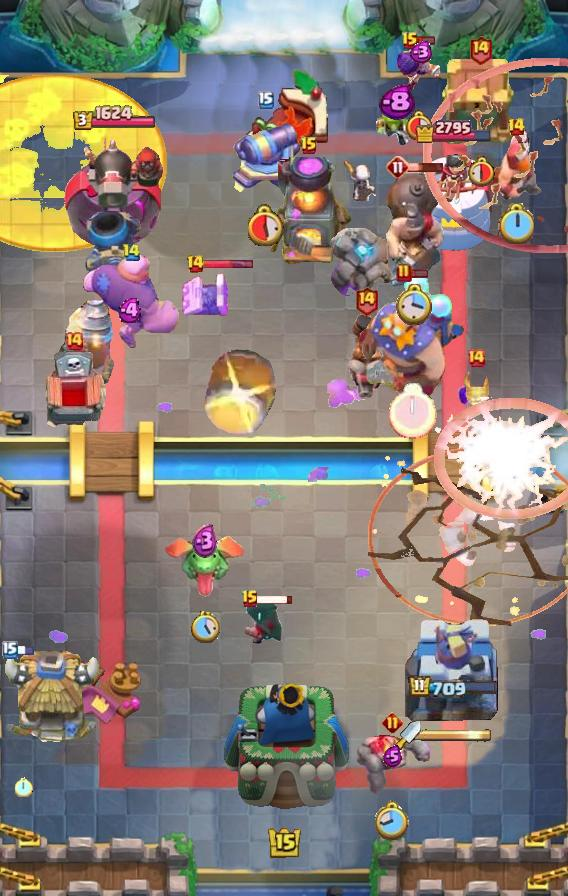balloon: (80, 252, 182, 352)
bar: (405, 611, 501, 731)
barbarian-evolution: (432, 397, 568, 519)
bomb: (441, 58, 519, 146)
dirt: (203, 347, 281, 439)
electro-spirit: (377, 83, 414, 120), (192, 525, 218, 560), (118, 297, 144, 322), (407, 41, 433, 63), (383, 744, 402, 768)
electro-wizard: (163, 535, 247, 597)
elite-barbarian: (344, 313, 388, 399)
elixir: (389, 383, 437, 439), (395, 285, 432, 328), (248, 204, 285, 246), (498, 203, 534, 245), (375, 800, 410, 842), (465, 155, 495, 187), (192, 611, 220, 643), (407, 110, 433, 140), (15, 777, 33, 797)
elixir-golem-mid: (39, 350, 109, 436)
emote: (202, 259, 254, 270), (407, 161, 445, 173), (257, 595, 294, 606), (17, 644, 36, 656), (416, 35, 436, 46), (411, 269, 430, 280)
goblin-ball: (396, 40, 444, 94)
goblin-brawler: (181, 269, 233, 319)
guard: (368, 446, 568, 625)
heal-spirit: (343, 159, 377, 201)
hunter: (265, 157, 353, 267)
ice-spirit-evolution: (461, 371, 491, 409)
king-tower: (219, 678, 349, 826)
king-tower-bar: (421, 728, 493, 742)
little-prince: (359, 273, 467, 399)
magic-archer: (55, 299, 115, 391)
mighty-miner: (487, 130, 545, 202)
musketeer: (85, 210, 145, 274)
phoenix-egg: (0, 76, 168, 253)
prince: (0, 651, 102, 747)
queen-tower: (410, 144, 496, 255)
royal-recruit: (230, 113, 302, 197)
selected: (71, 104, 156, 131), (409, 675, 500, 700), (414, 117, 494, 142)
skeleton-barrel: (424, 56, 568, 254)
tesla: (241, 599, 285, 647)
text: (467, 35, 492, 66), (353, 284, 378, 315), (386, 155, 410, 179), (382, 712, 403, 733), (64, 331, 84, 351), (466, 348, 486, 368), (507, 117, 526, 137), (186, 254, 205, 274), (401, 31, 419, 51), (300, 136, 318, 156), (241, 589, 259, 609), (122, 243, 141, 261), (396, 263, 412, 283), (258, 91, 274, 109), (2, 641, 18, 659)
tower-bar: (60, 132, 167, 256)
valkyrie-evolution: (353, 731, 431, 795), (327, 228, 397, 296)
wizard: (382, 171, 446, 289)
zap: (375, 105, 417, 149)
